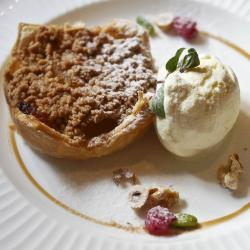apple_pie: (5, 22, 157, 158)
icecream: (149, 53, 246, 163)
